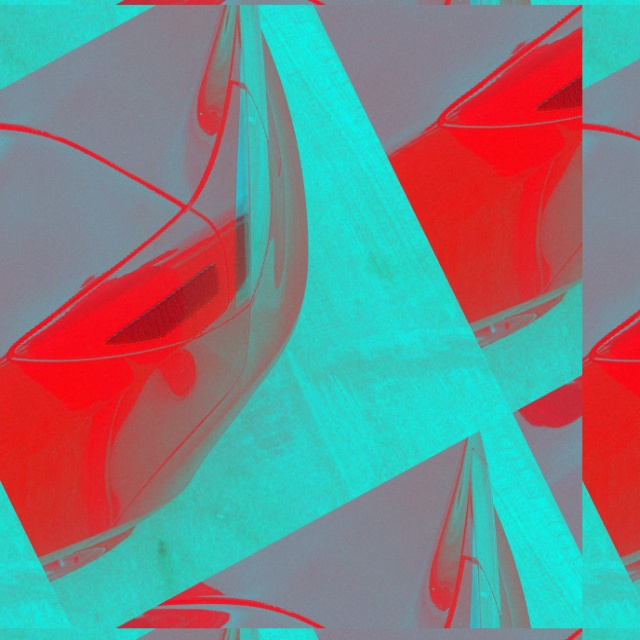reflector: (94, 261, 234, 364)
